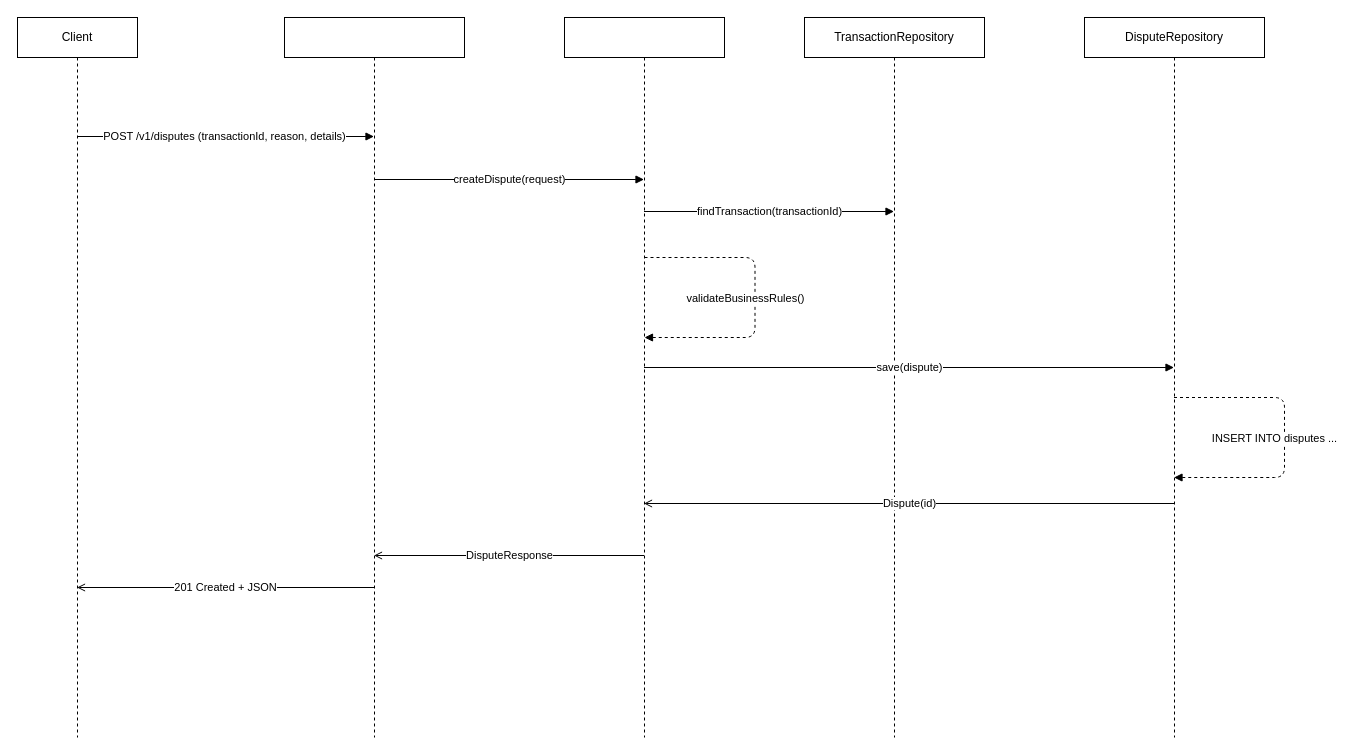
The diagram is 1354 pixels wide and 755 high, and some of its shapes have lost their labels. The box of each missing label's shape, as (x1, y1, x2, y2) in pixels:
DisputeController: (284, 16, 464, 738)
DisputeService: (564, 16, 724, 738)
